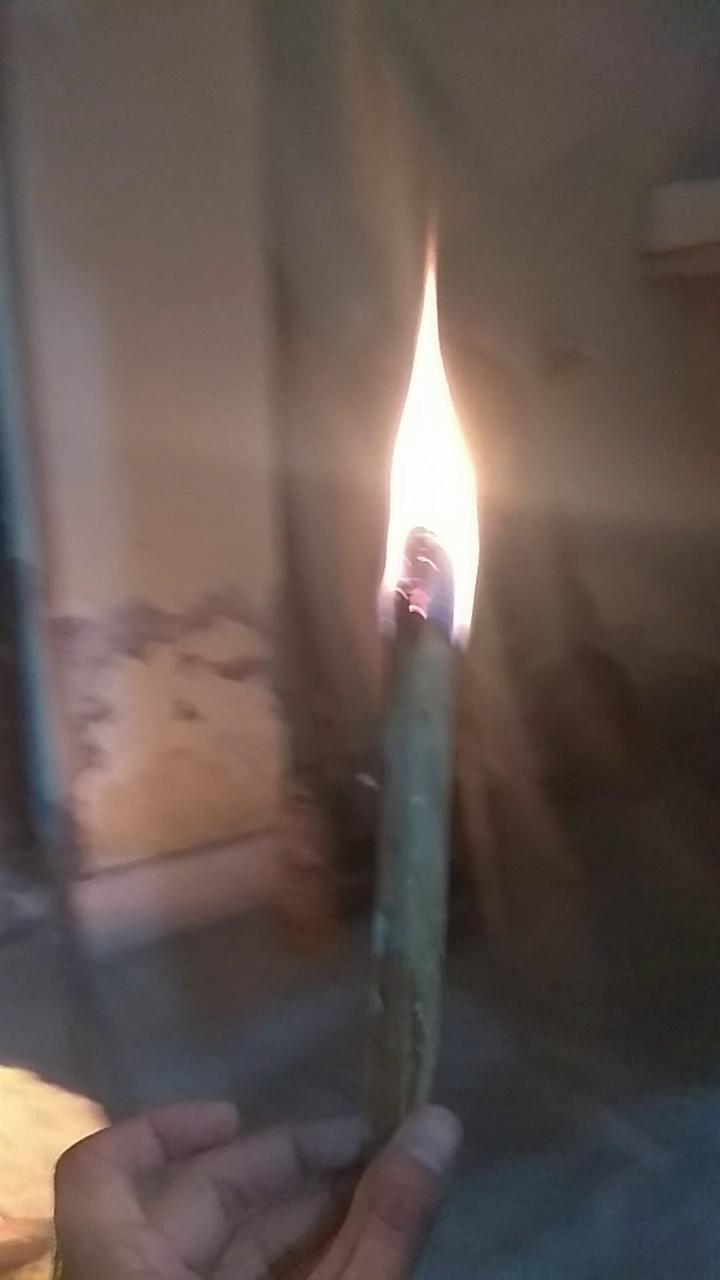fire: (334, 184, 520, 665)
